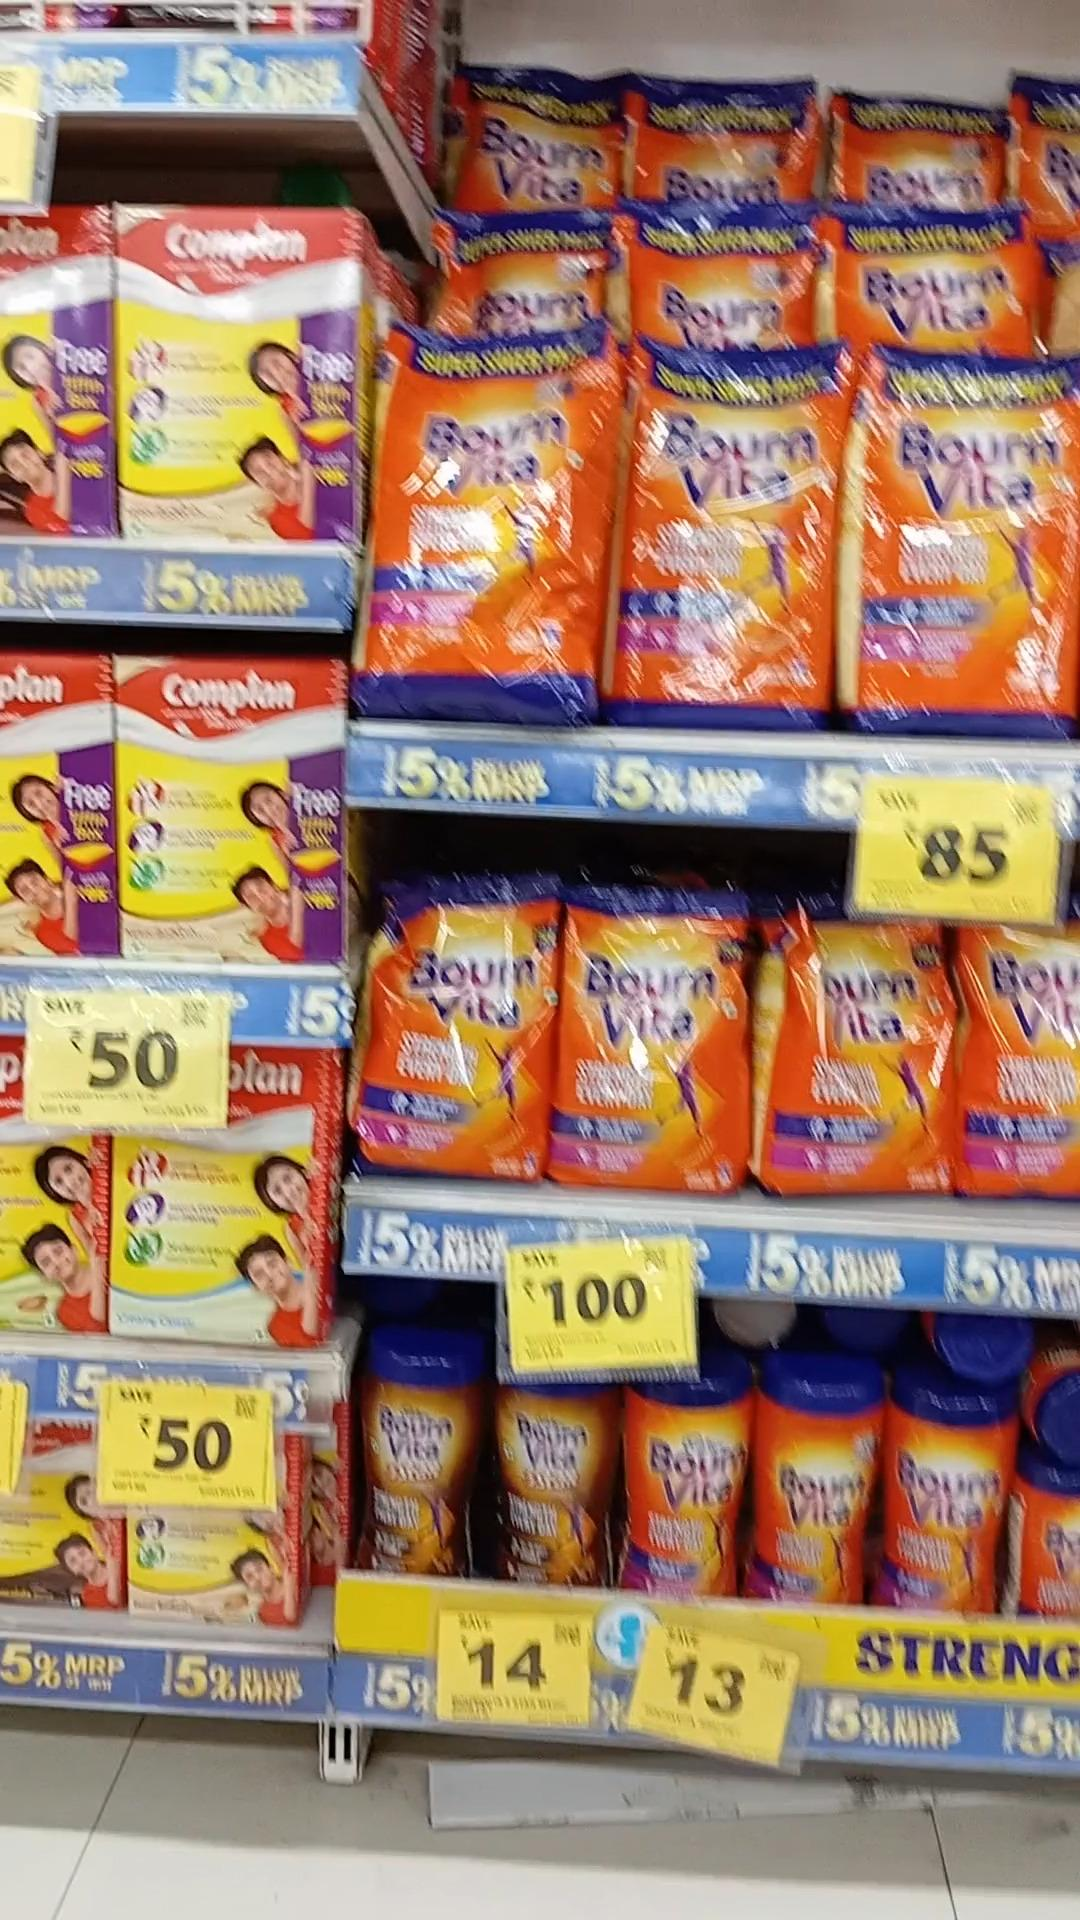BOURN_VITA_1_KG_POUCH: (368, 334, 597, 732), (847, 347, 1080, 736), (609, 344, 843, 723)
BOURN_VITA_500_G_JAR: (750, 1354, 874, 1601), (887, 1367, 1009, 1613), (626, 1381, 744, 1597)
BOURN_VITA_500_G_POUCH: (359, 872, 551, 1184), (560, 886, 749, 1203), (756, 913, 948, 1197), (952, 922, 1080, 1199)
BOURN_VITA_FIVE_STAR_MAGIC_500_G_JAR: (361, 1325, 480, 1573), (498, 1378, 611, 1588)
COMPLAN_CREAMY_CLASSIC_500_G_PACK: (108, 1124, 328, 1340)
COMPLAN_KESAR_BADAM_500_GMS_PACK: (115, 211, 348, 538), (117, 661, 345, 969), (128, 1480, 299, 1627)
